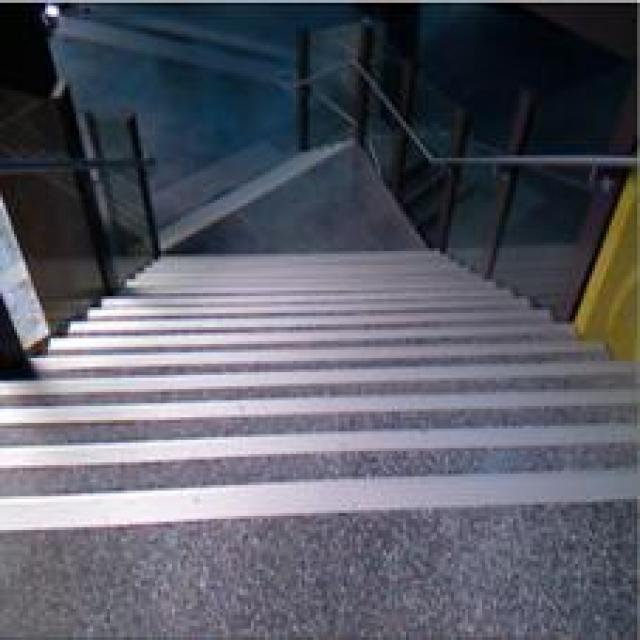downstair: (9, 351, 627, 537)
